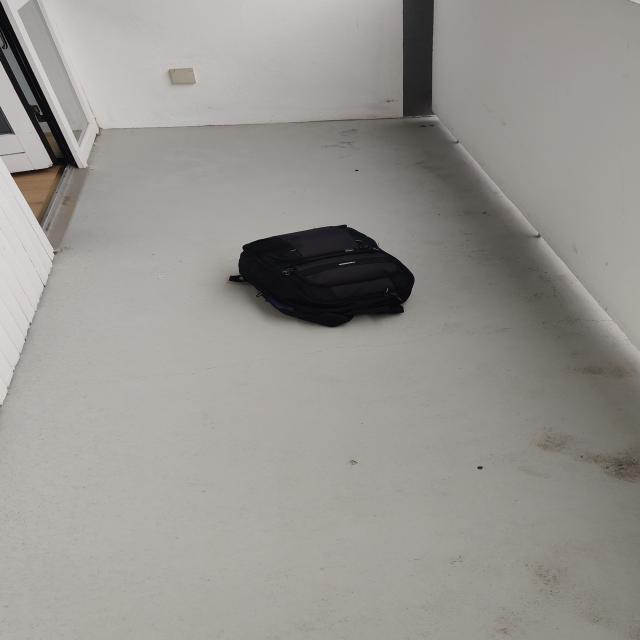backpack: (229, 220, 420, 328)
